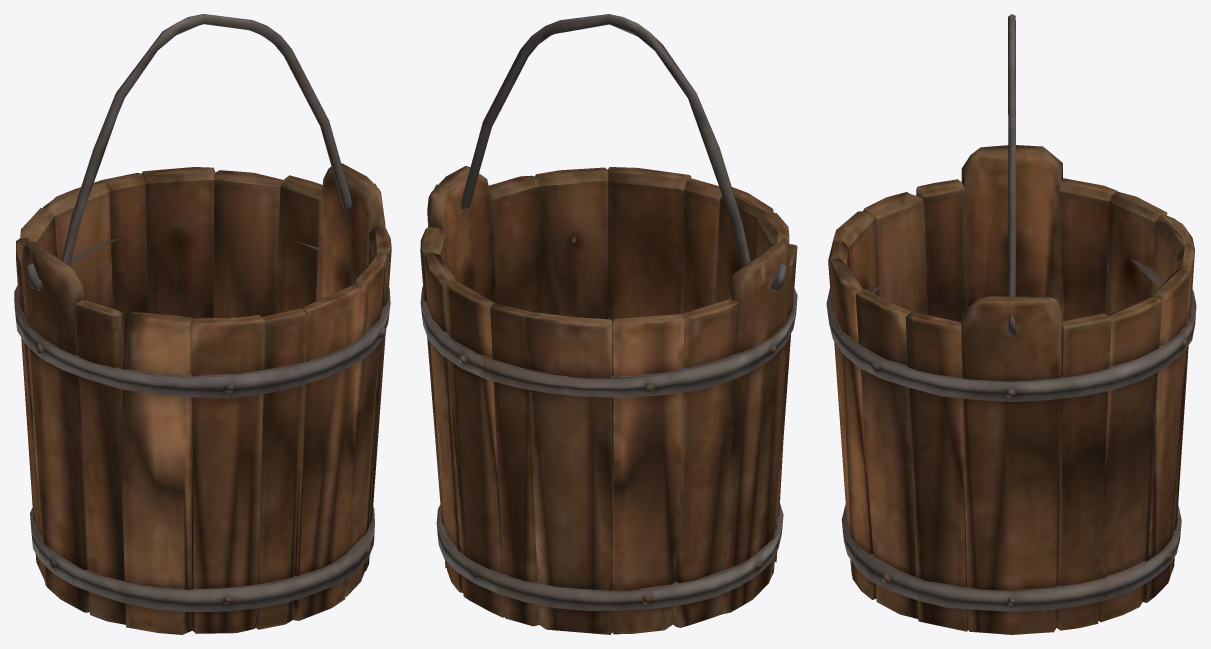
Rendered from wooden_bucket_01.glb.
3 renders of one model, left to right at view 1: azimuth 30°, elevation 25°; view 2: azimuth 150°, elevation 25°; view 3: azimuth 270°, elevation 25°, orthographic.
Parts seen in each view (by area): view 1: wooden_bucket_01, wooden_bucket_01_lo; view 2: wooden_bucket_01, wooden_bucket_01_lo; view 3: wooden_bucket_01, wooden_bucket_01_lo.
Boxes of the visible parts, box(x1,y1,x2,y2) form: wooden_bucket_01: box(14, 14, 391, 634); wooden_bucket_01_lo: box(14, 168, 390, 595); wooden_bucket_01: box(420, 14, 797, 634); wooden_bucket_01_lo: box(421, 172, 797, 589); wooden_bucket_01: box(826, 14, 1196, 634); wooden_bucket_01_lo: box(830, 151, 1193, 611).
Size of the model in its own units: 0.3663 by 0.5499 by 0.3406.
1 material, 1 textured.
